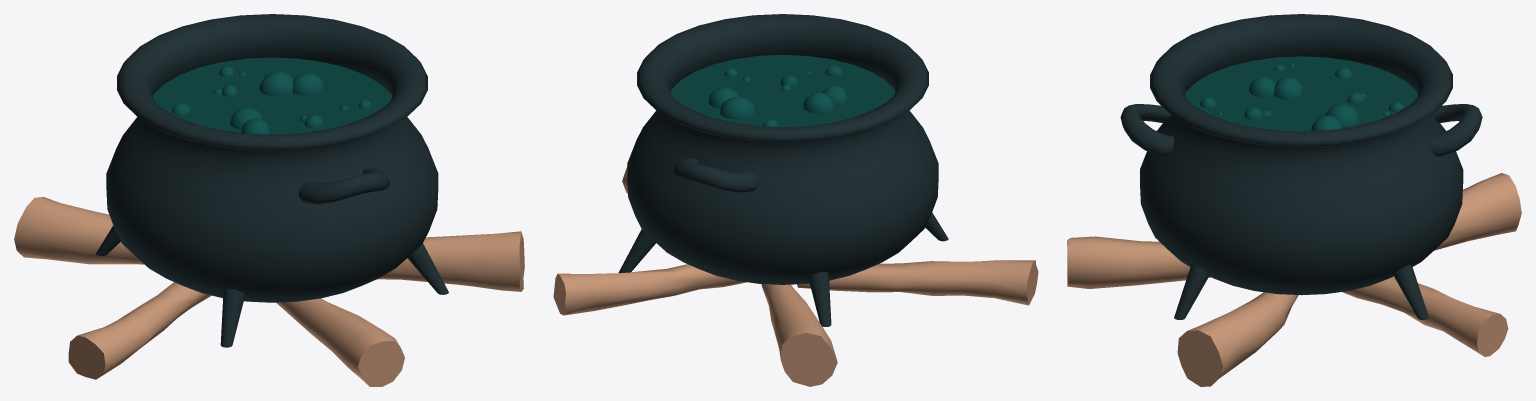
Rendered from SE_112_lighting_spell_pot.glb.
3 views of the same model, side by side, from view 1: azimuth 30°, elevation 25°; view 2: azimuth 150°, elevation 25°; view 3: azimuth 270°, elevation 25° (orthographic). The views are drawn at different scales.
Visible parts, largest first — view 1: pot, wood_logs, bubbles, pot_legs, pot_handles; view 2: pot, wood_logs, bubbles, pot_legs, pot_handles; view 3: pot, wood_logs, pot_handles, bubbles, pot_legs.
Part boxes in pixels (x1=…): pot: x1=106, y1=14, x2=438, y2=302; wood_logs: x1=14, y1=197, x2=524, y2=386; bubbles: x1=171, y1=66, x2=371, y2=134; pot_legs: x1=96, y1=225, x2=448, y2=347; pot_handles: x1=298, y1=167, x2=390, y2=204; pot: x1=627, y1=14, x2=938, y2=284; wood_logs: x1=553, y1=167, x2=1038, y2=386; bubbles: x1=708, y1=65, x2=869, y2=126; pot_legs: x1=618, y1=212, x2=948, y2=326; pot_handles: x1=672, y1=157, x2=758, y2=192; pot: x1=1140, y1=14, x2=1463, y2=295; wood_logs: x1=1067, y1=173, x2=1521, y2=386; pot_handles: x1=1120, y1=104, x2=1482, y2=156; bubbles: x1=1200, y1=63, x2=1404, y2=130; pot_legs: x1=1174, y1=264, x2=1428, y2=319.
Size of the model in its own units: 1.85 by 0.8907 by 1.68.
